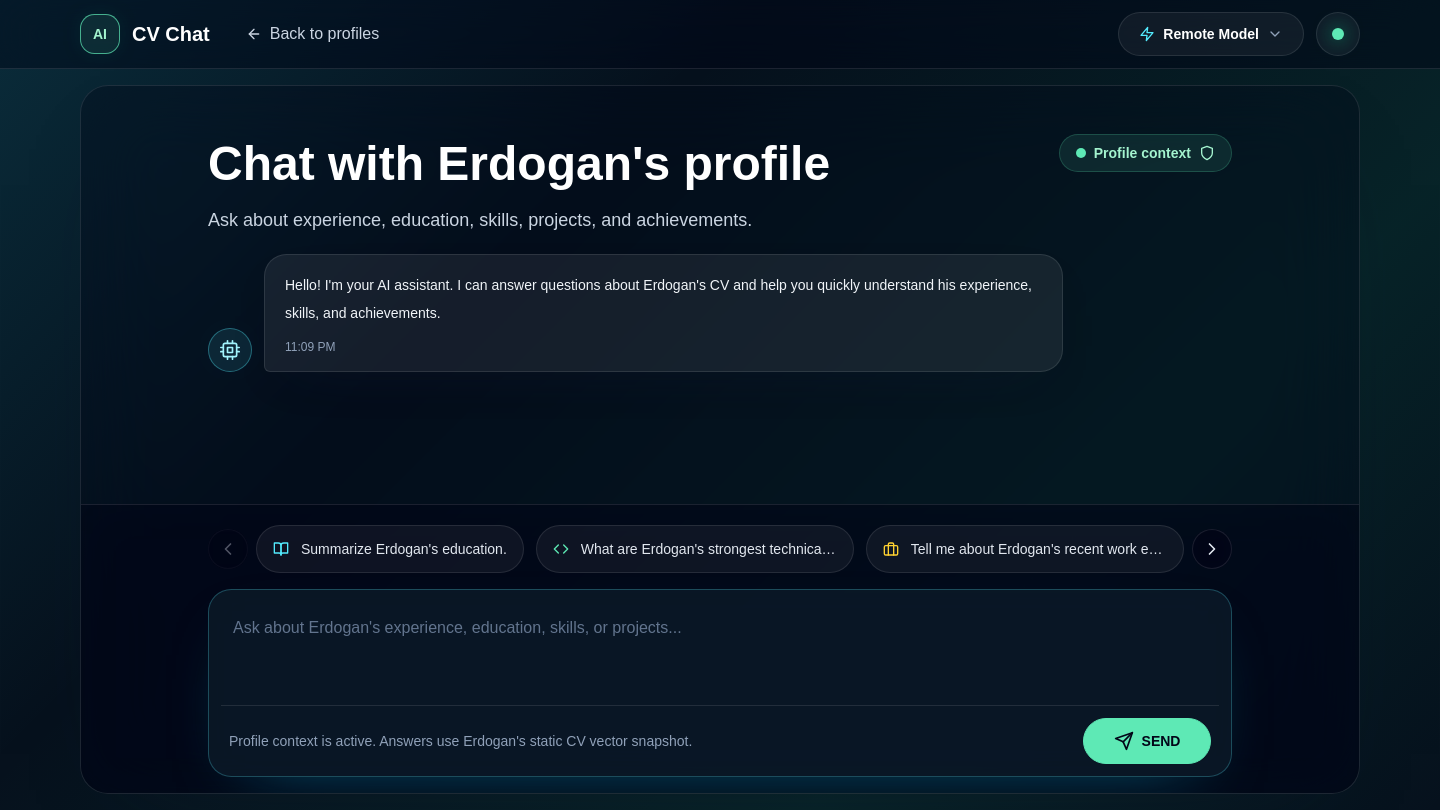
Test: ChatRoute › renders models returned by the chat API in the picker
Click the button "Remote Model" at (1211, 34), box left=1118, top=12, right=1304, bottom=56
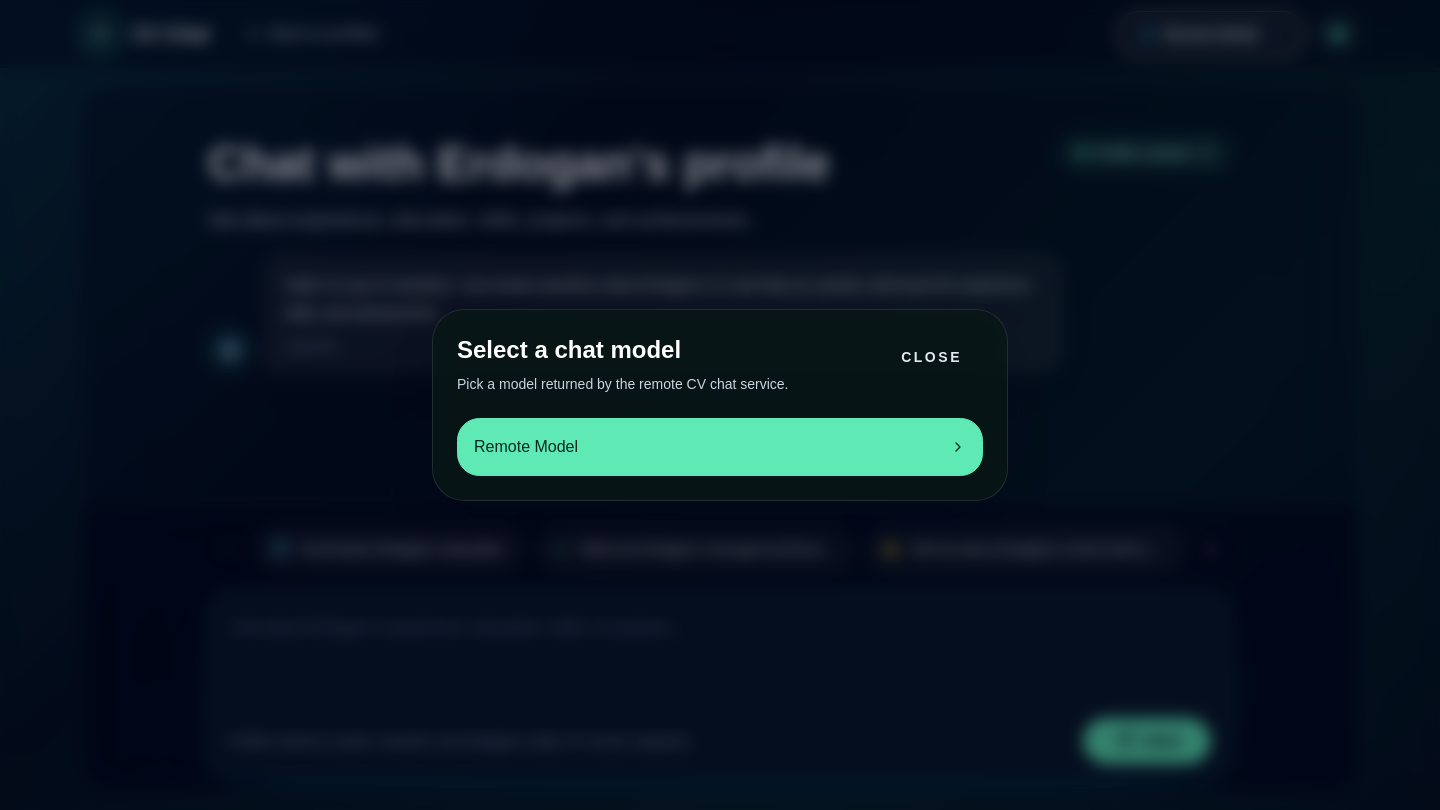
Check: the number of buttons "Remote Model" is 2, box left=1118, top=12, right=1304, bottom=56; left=457, top=418, right=983, bottom=476
